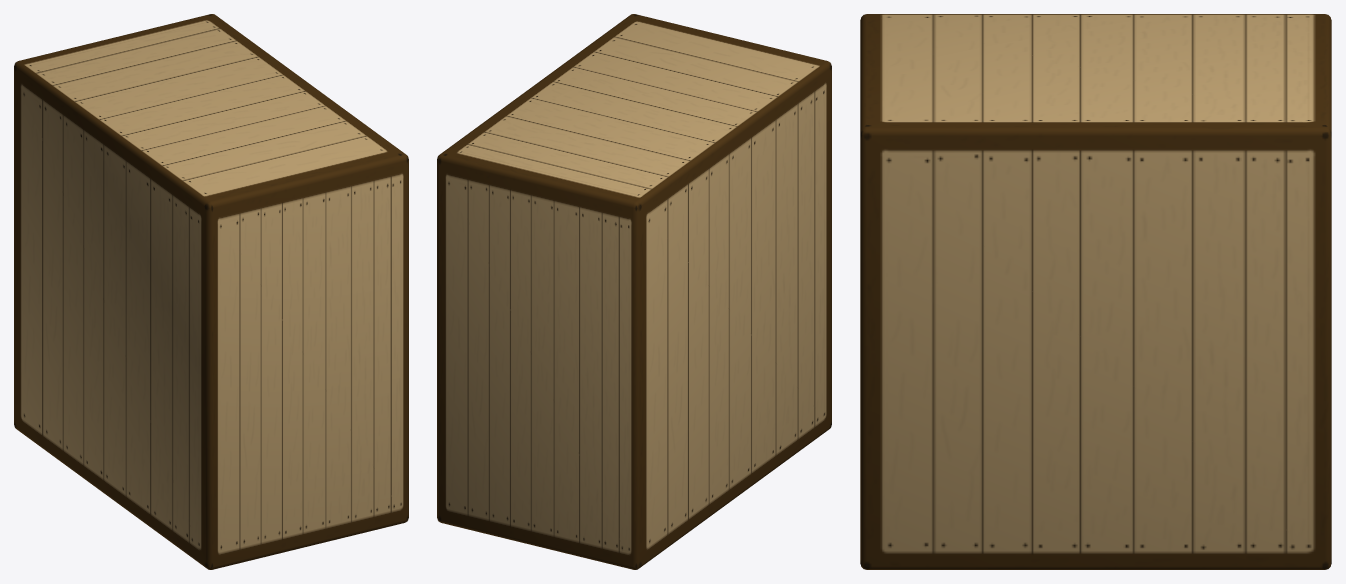
The model's file is RampV2.fbx.
3 renders of one model, left to right at view 1: azimuth 30°, elevation 25°; view 2: azimuth 150°, elevation 25°; view 3: azimuth 270°, elevation 25°, orthographic. The views are drawn at different scales.
Visible parts, largest first — view 1: Ramp.V2; view 2: Ramp.V2; view 3: Ramp.V2.
Part boxes in pixels (bbox=[...]): Ramp.V2: bbox=[14, 14, 408, 569]; Ramp.V2: bbox=[437, 14, 831, 569]; Ramp.V2: bbox=[860, 14, 1331, 569].
Size of the model in its own units: 863 by 1502 by 1451.
Materials: 1 (1 with a texture image).
